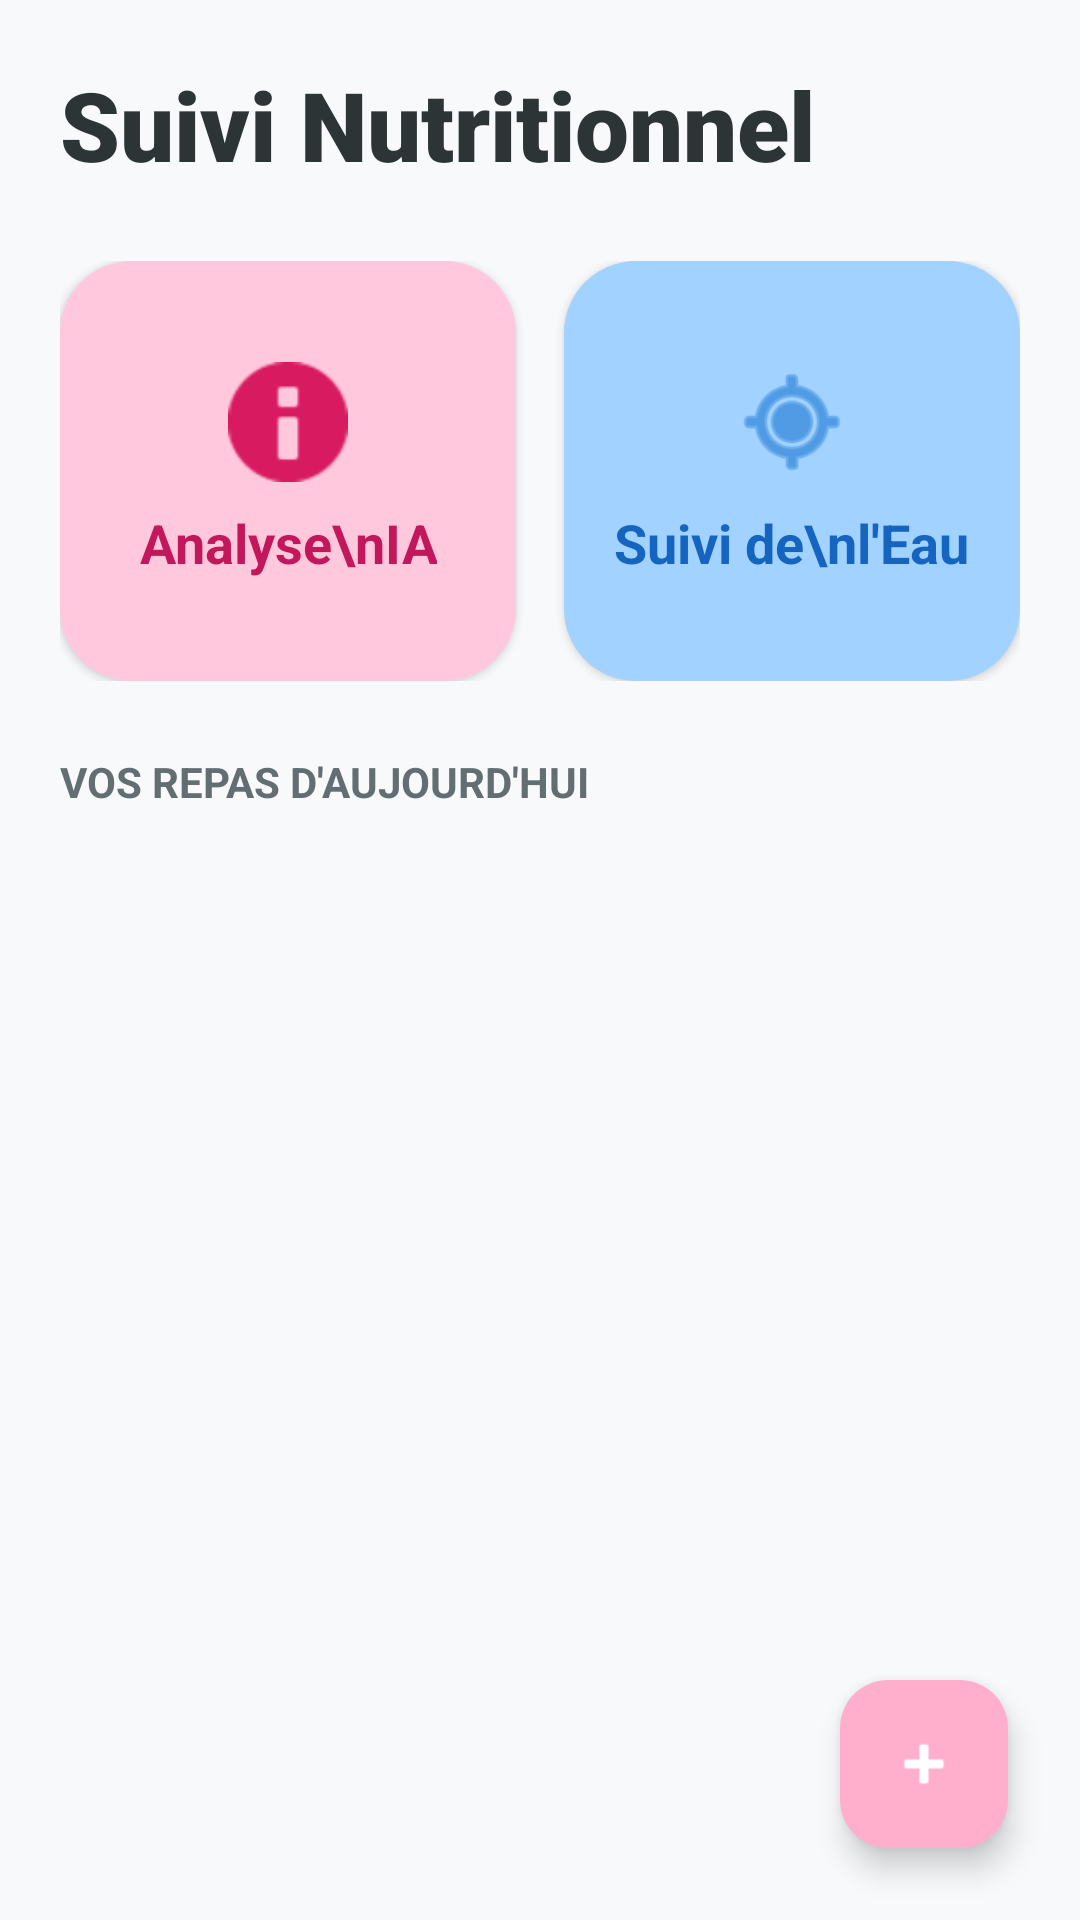

Icon click points for this 1080×1920 phone screenshot, format point (x, y):
add: point (924, 1764)
info: point (288, 422)
mylocation: point (792, 422)
